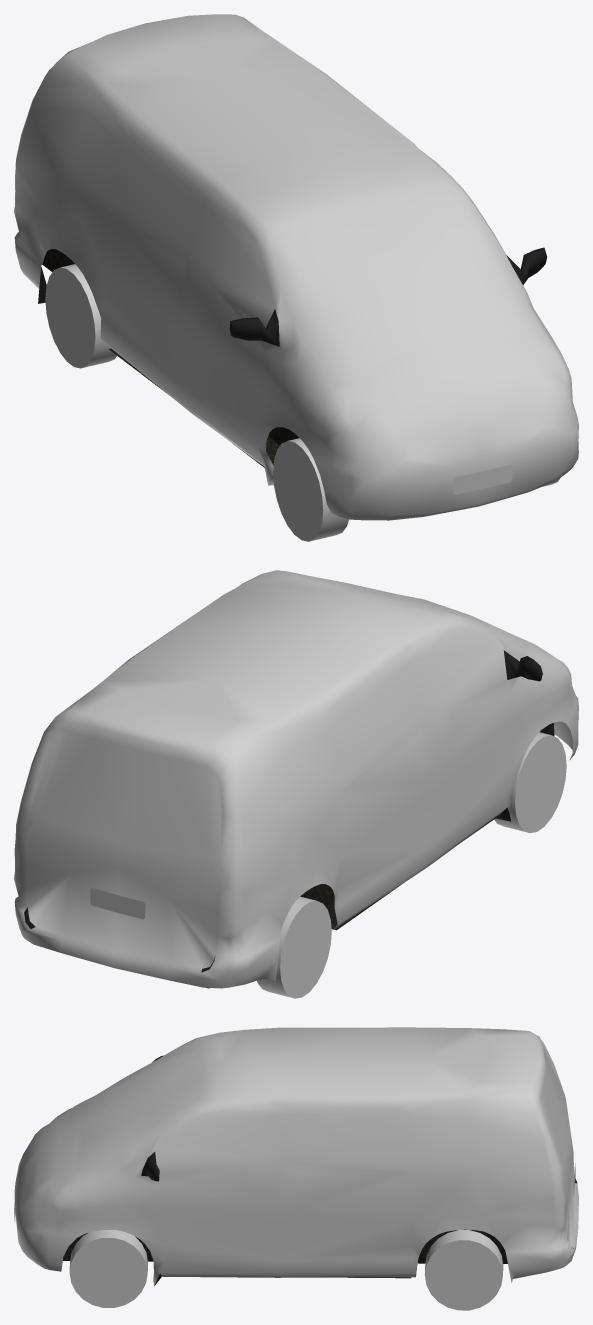
The model's file is Minivan.FBX.
The picture shows the model from 3 angles, top to bottom: view 1: azimuth 30°, elevation 25°; view 2: azimuth 150°, elevation 25°; view 3: azimuth 270°, elevation 25°; orthographic projection. The views are drawn at different scales.
Visible parts, largest first — view 1: 04body, 04tyres, 04tyresurf, 04fill, 04plates; view 2: 04body, 04tyres, 04tyresurf, 04plates, 04fill; view 3: 04body, 04tyres, 04tyresurf, 04fill.
Boxes of the visible parts, x1,y1,x2,y2 form: 04body: [14, 14, 578, 520]; 04tyres: [45, 267, 323, 541]; 04tyresurf: [60, 264, 560, 541]; 04fill: [42, 249, 298, 467]; 04plates: [453, 465, 512, 494]; 04body: [14, 570, 578, 988]; 04tyres: [280, 735, 566, 998]; 04tyresurf: [257, 732, 550, 998]; 04plates: [90, 888, 145, 919]; 04fill: [206, 723, 554, 988]; 04body: [14, 1027, 578, 1285]; 04tyres: [69, 1238, 502, 1310]; 04tyresurf: [69, 1229, 503, 1274]; 04fill: [63, 1229, 507, 1278].
Size of the model in its own units: 2168 by 1831 by 4480.
